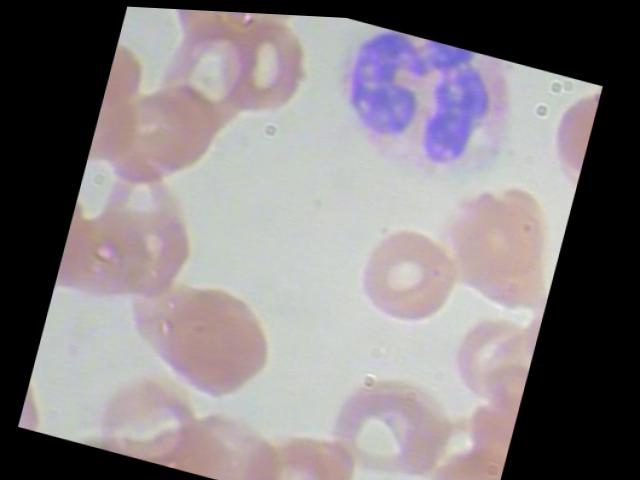Red Blood Cells: (112, 259, 284, 411), (309, 346, 467, 479), (340, 200, 476, 341), (94, 64, 227, 204), (75, 348, 214, 470), (135, 6, 268, 133), (434, 170, 550, 301), (436, 289, 545, 418), (202, 8, 319, 126), (443, 296, 542, 414), (228, 419, 354, 479), (414, 423, 512, 479)
White Blood Cells: (298, 12, 534, 218)
